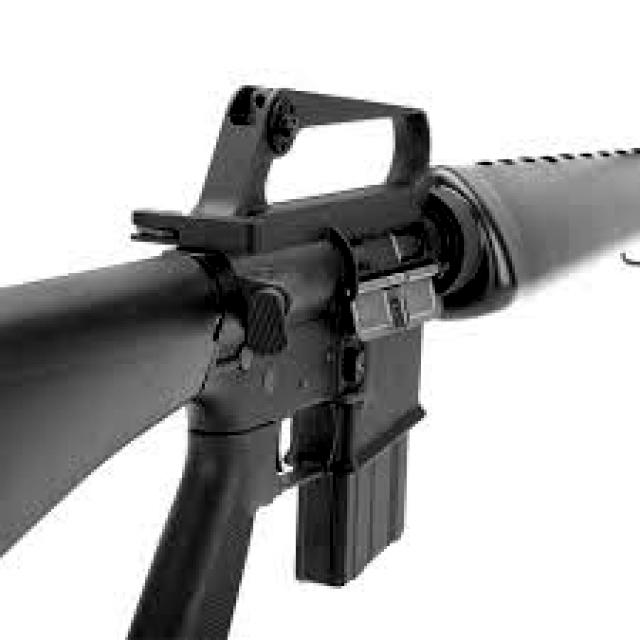m16: (68, 41, 580, 588)
